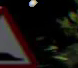Speed Breaker ahead: (0, 5, 36, 67)
